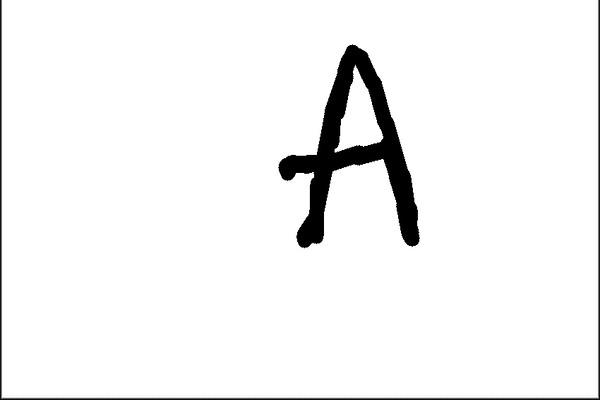A: (271, 39, 431, 250)
